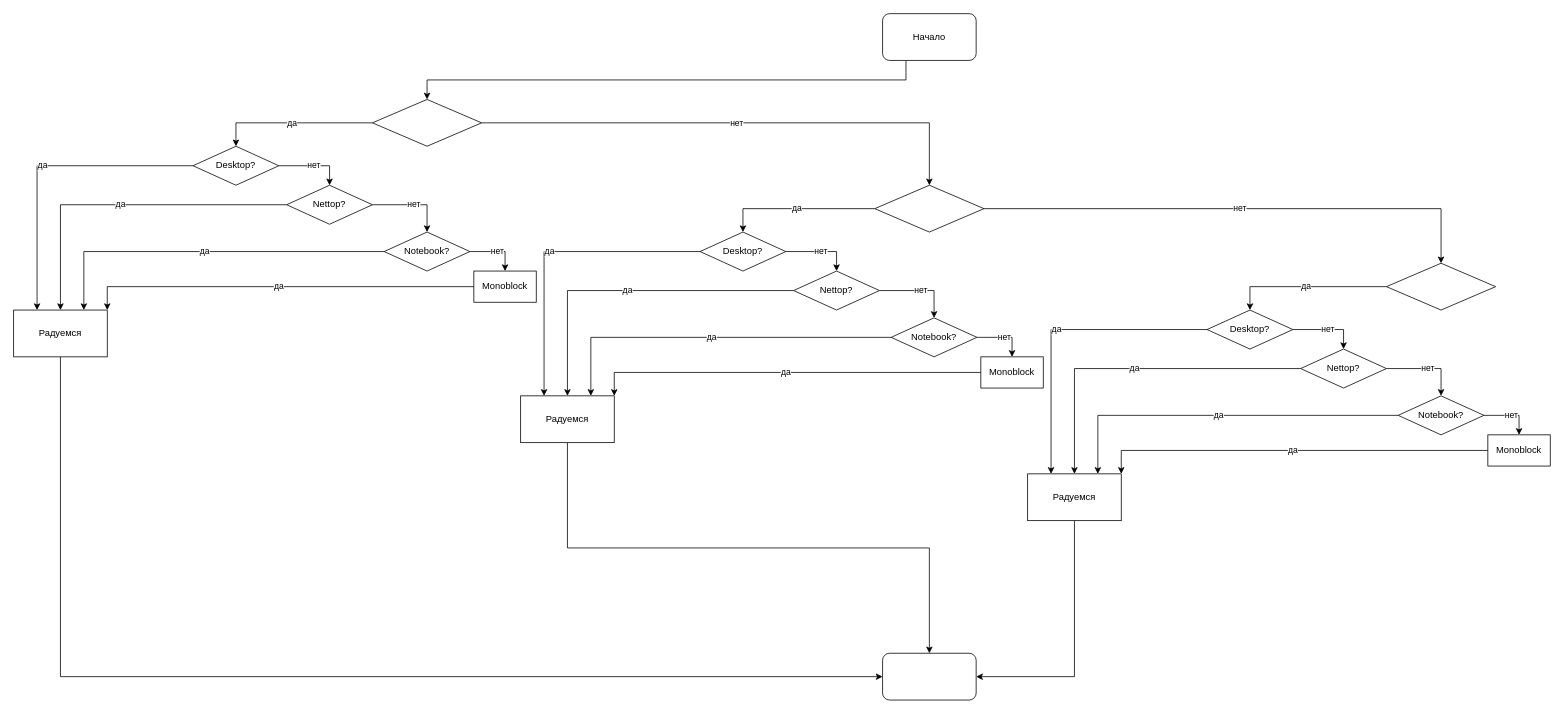
Some shapes in this 1564 by 714 pixel diagram are drawn without their labels. Each missing label, with the centre of its shape:
Конец: pixel 929 676
ОС Linux?: pixel 427 122
ОС macOS?: pixel 929 208
ОС Windows?: pixel 1441 286
